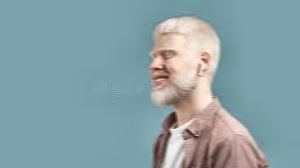earphone: (199, 50, 211, 74)
